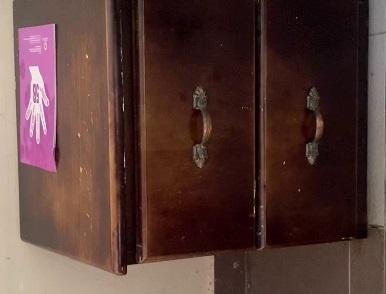cabinet_door: (135, 0, 257, 258), (262, 0, 366, 250)
handle: (189, 85, 216, 170), (300, 84, 327, 167)
